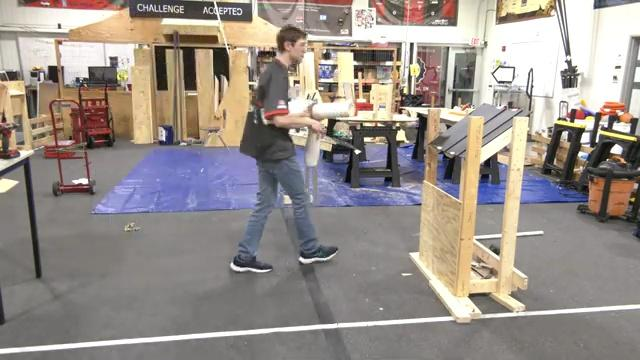CORAL: (311, 100, 356, 119), (304, 128, 321, 167)
